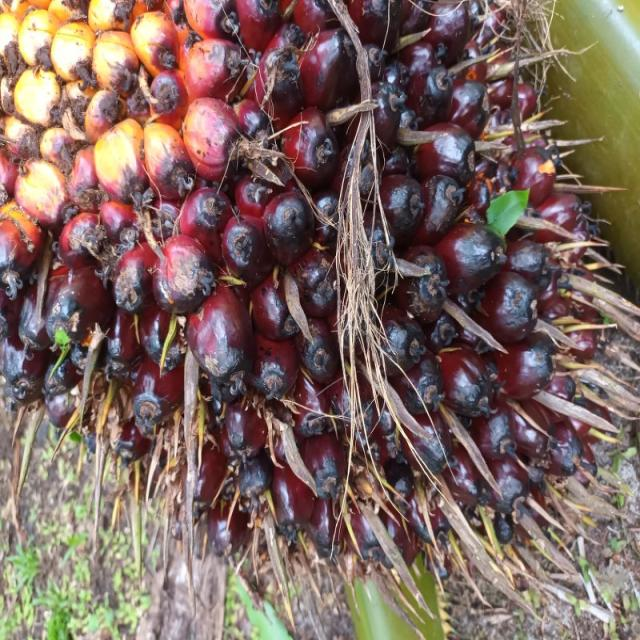fraksi 1: (21, 2, 480, 640)
